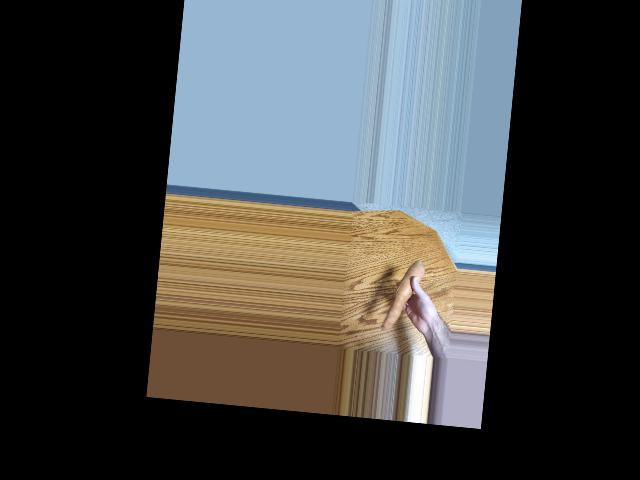sweet_potato: (386, 255, 417, 334)
